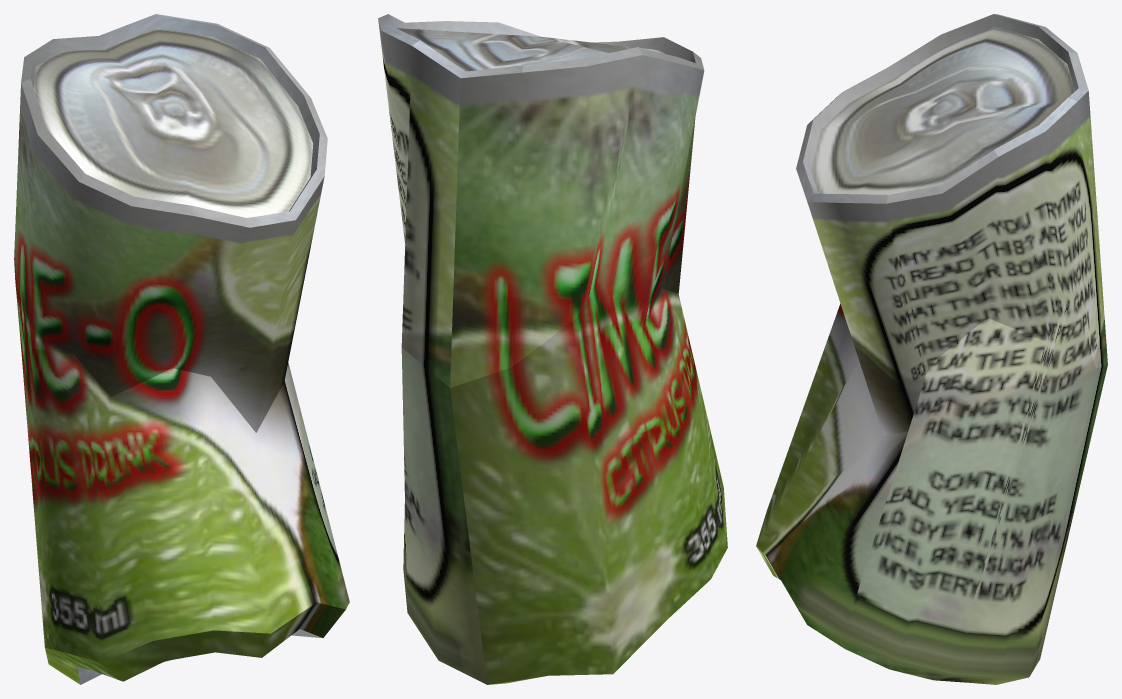
The model's file is popcan_crushed_highres.fbx.
3 views of the same model, side by side, from view 1: azimuth 30°, elevation 25°; view 2: azimuth 150°, elevation 25°; view 3: azimuth 270°, elevation 25° (orthographic). The views are drawn at different scales.
Parts seen in each view (by area): view 1: popcan; view 2: popcan; view 3: popcan.
Boxes of the visible parts, x1,y1,x2,y2 form: popcan: (14,14,349,684); popcan: (378,14,727,684); popcan: (756,14,1107,684).
Size of the model in its own units: 0.0801 by 0.1743 by 0.0925.
